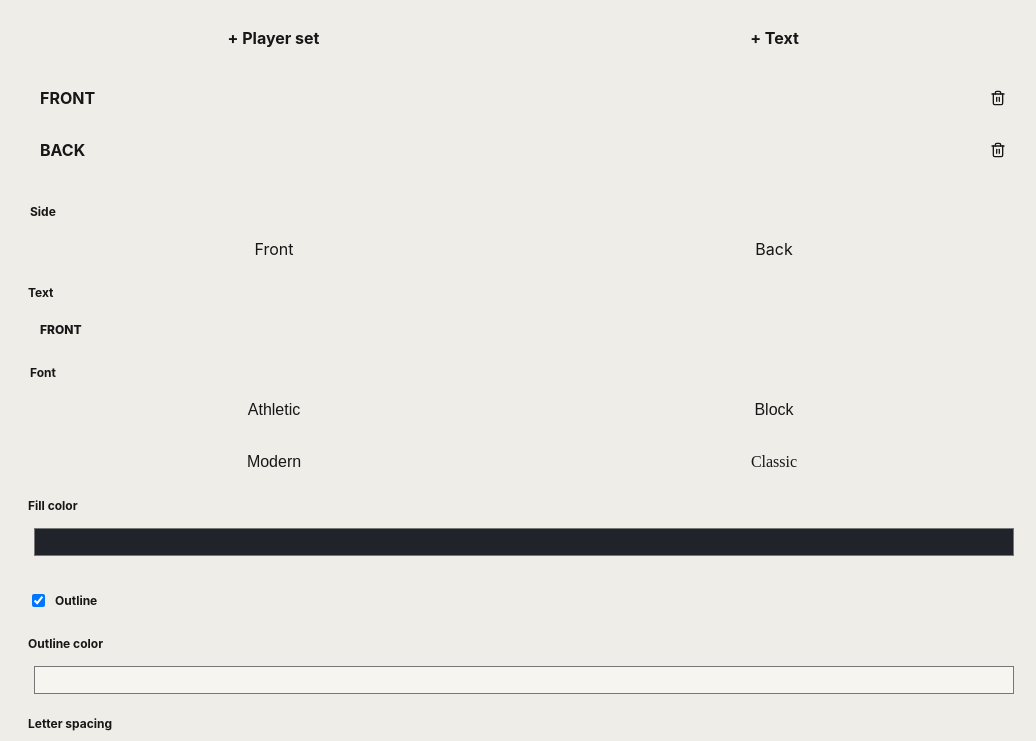
Test case: PersonalizePanel › keeps a newer selection when a selected-row deletion finishes later
Step 1. Click the button named "Delete text FRONT (text-1)" → point(998, 98), box x1=976 y1=76 x2=1020 y2=120
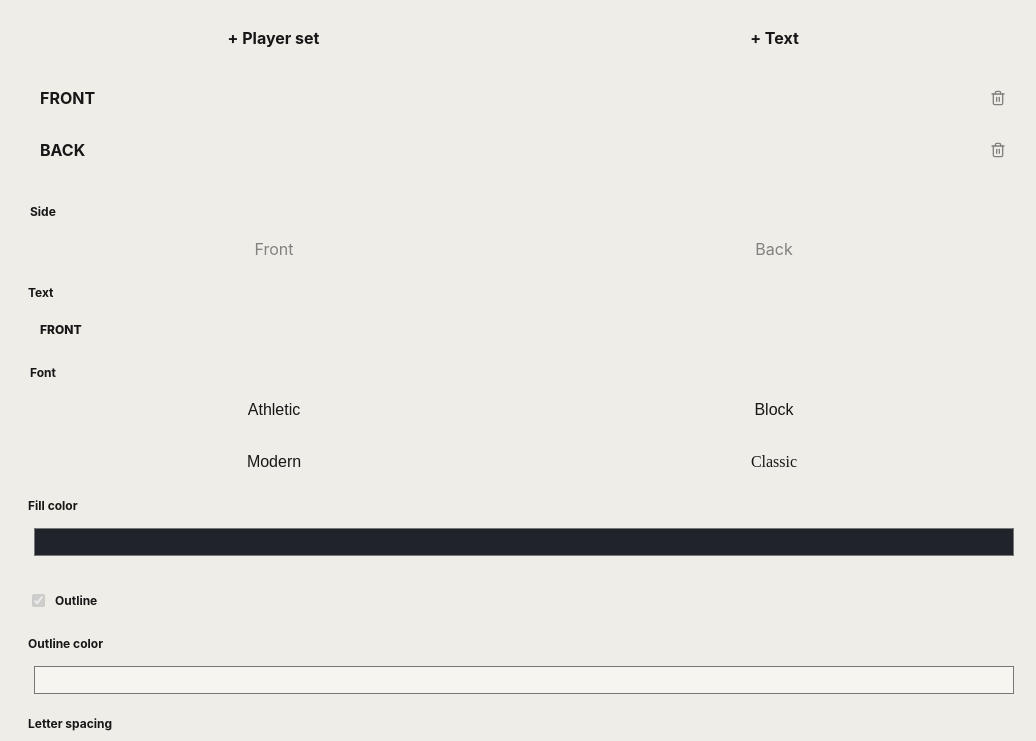
Step 2. Click the button "BACK" → point(63, 150), box x1=28 y1=128 x2=968 y2=172
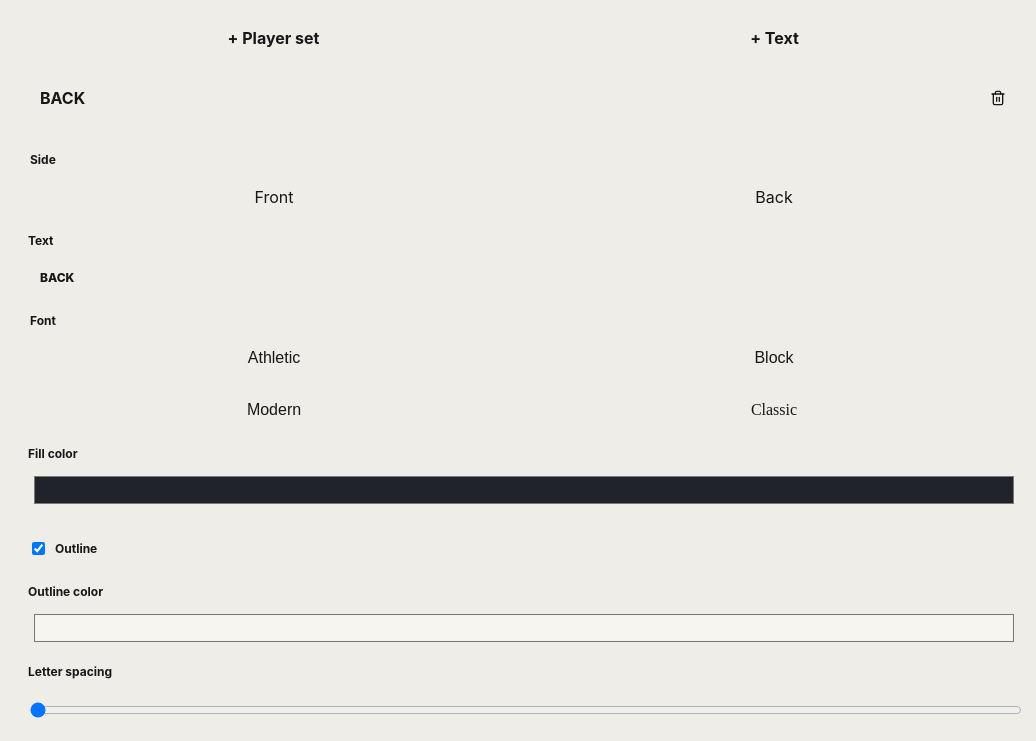
expect the field named "Text content" holds "BACK": met, box x1=28 y1=255 x2=1020 y2=299
